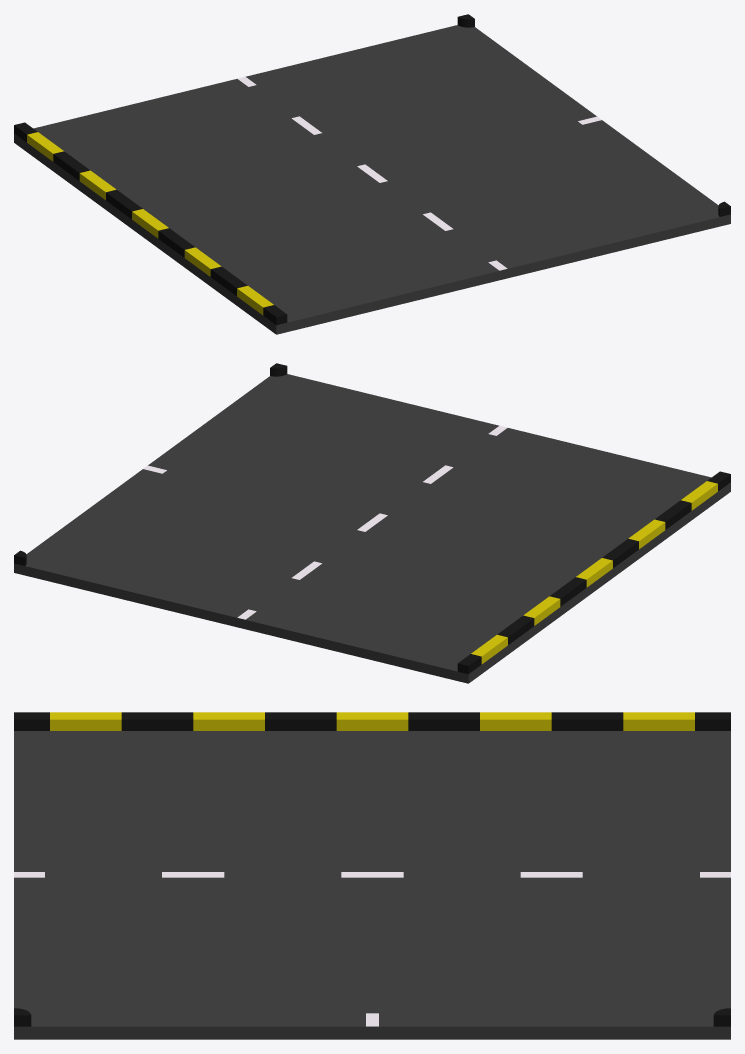
File: single_road_T.glb
The picture shows the model from 3 angles, top to bottom: view 1: azimuth 30°, elevation 25°; view 2: azimuth 150°, elevation 25°; view 3: azimuth 270°, elevation 25°; orthographic projection. The views are drawn at different scales.
Visible parts, largest first — view 1: Cube.001, Sidewalk.003, Cube.002; view 2: Cube.001, Sidewalk.003, Cube.002; view 3: Cube.001, Sidewalk.003, Cube.002.
Boxes of the visible parts, left/top/right/bottom form: Cube.001: left=14, top=25, right=730, bottom=334; Sidewalk.003: left=14, top=122, right=287, bottom=325; Cube.002: left=237, top=76, right=507, bottom=270; Cube.001: left=14, top=374, right=730, bottom=683; Sidewalk.003: left=457, top=471, right=730, bottom=674; Cube.002: left=237, top=425, right=507, bottom=619; Cube.001: left=14, top=731, right=730, bottom=1039; Sidewalk.003: left=14, top=712, right=730, bottom=730; Cube.002: left=14, top=872, right=730, bottom=877.
Bounding box in the file's own units: 2 × 0.0741 × 2.
